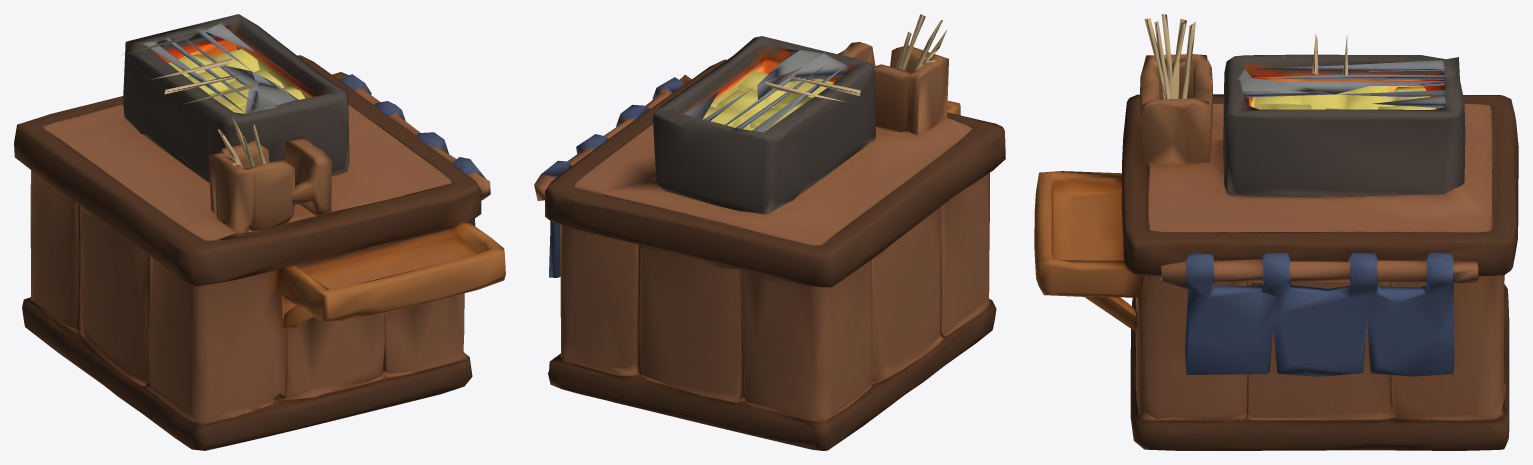
File: JP_사물_s2_dessert_stand_dango.glb
3 renders of one model, left to right at view 1: azimuth 30°, elevation 25°; view 2: azimuth 150°, elevation 25°; view 3: azimuth 270°, elevation 25°, orthographic. The views are drawn at different scales.
Visible parts, largest first — view 1: tripo_node_174a1ce5-9dc9-4cdf-bcf1-54e98a5cd050; view 2: tripo_node_174a1ce5-9dc9-4cdf-bcf1-54e98a5cd050; view 3: tripo_node_174a1ce5-9dc9-4cdf-bcf1-54e98a5cd050.
Boxes of the visible parts, x1,y1,x2,y2 form: tripo_node_174a1ce5-9dc9-4cdf-bcf1-54e98a5cd050: (14, 14, 505, 450); tripo_node_174a1ce5-9dc9-4cdf-bcf1-54e98a5cd050: (534, 14, 1005, 450); tripo_node_174a1ce5-9dc9-4cdf-bcf1-54e98a5cd050: (1034, 14, 1518, 450).
Size of the model in its own units: 0.8152 by 0.7403 by 1.
1 material, 1 textured.
